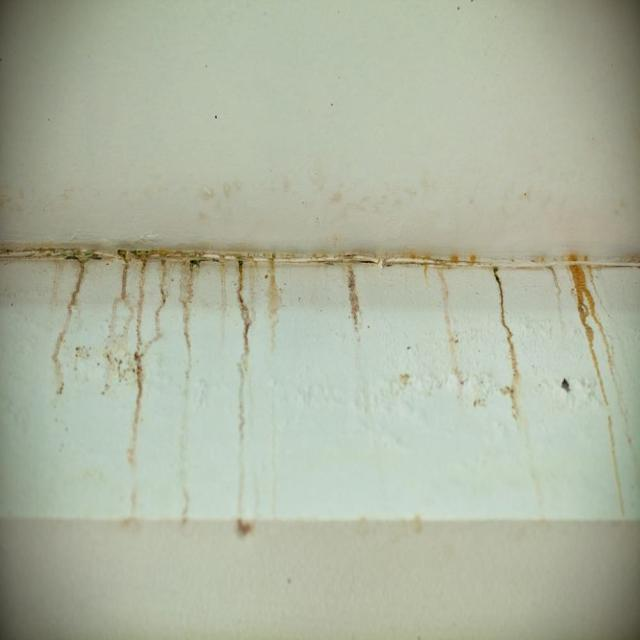Water_Leakage: (0, 154, 640, 566)
